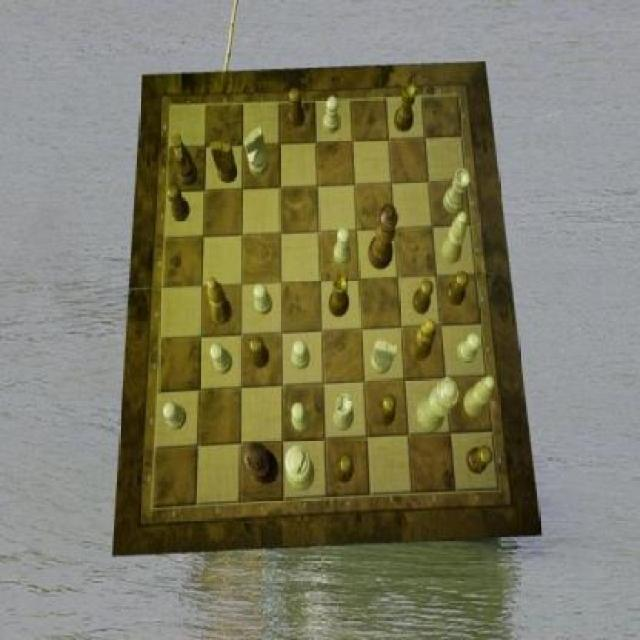bishop: (410, 320, 438, 362), (208, 277, 232, 323)
black-bishop: (245, 441, 280, 484)
black-king: (172, 134, 198, 186), (210, 141, 238, 184)
black-knight: (168, 184, 190, 220), (446, 271, 469, 305), (466, 446, 493, 474), (414, 279, 434, 313), (377, 394, 397, 426), (251, 337, 271, 369), (288, 88, 304, 128), (334, 454, 354, 483)
black-pawn: (368, 205, 398, 270)
black-queen: (394, 83, 417, 132), (328, 274, 348, 316)
black-rook: (442, 212, 468, 265), (464, 375, 496, 418)
white-bishop: (284, 445, 314, 490)
white-king: (243, 128, 268, 177), (371, 338, 398, 374)
white-knight: (211, 343, 234, 375), (458, 334, 482, 364), (163, 403, 187, 431), (334, 226, 351, 264), (323, 95, 340, 133), (254, 285, 273, 317), (291, 340, 310, 371), (292, 403, 312, 432)
white-pawn: (417, 377, 459, 433)
white-queen: (443, 169, 470, 215), (334, 394, 354, 431)
